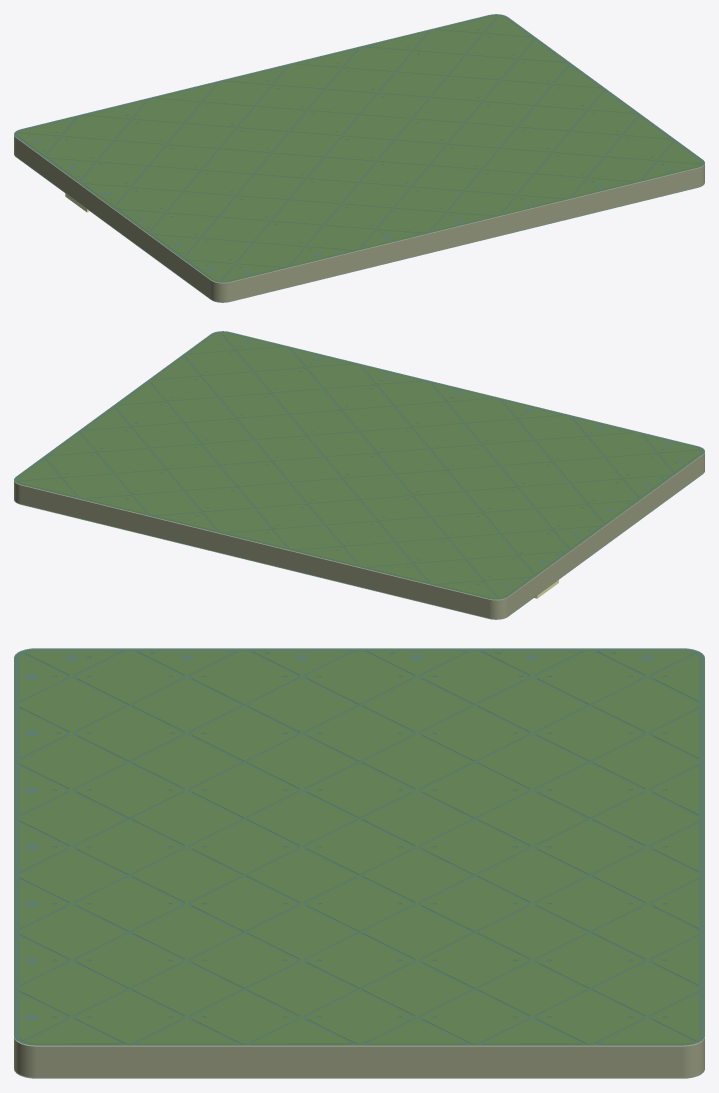
File: board.glb
3 renders of one model, top to bottom at view 1: azimuth 30°, elevation 25°; view 2: azimuth 150°, elevation 25°; view 3: azimuth 270°, elevation 25°, orthographic. The views are drawn at different scales.
Visible parts, largest first — view 1: board_soldermask (×2), board_copper, board_PCB; view 2: board_soldermask (×2), board_copper, board_PCB; view 3: board_soldermask (×2), board_copper, board_PCB.
Boxes of the visible parts, box(x1,y1,x2,y2) form: board_soldermask (×2): box(14, 14, 704, 302); board_copper: box(18, 16, 700, 281); board_PCB: box(14, 15, 704, 302); board_soldermask (×2): box(14, 331, 704, 619); board_copper: box(18, 333, 700, 598); board_PCB: box(14, 332, 704, 619); board_soldermask (×2): box(14, 648, 704, 1078); board_copper: box(20, 651, 698, 1043); board_PCB: box(14, 650, 704, 1077).
Bounding box in the file's own units: 0.0413 × 0.00545 × 0.0304.
